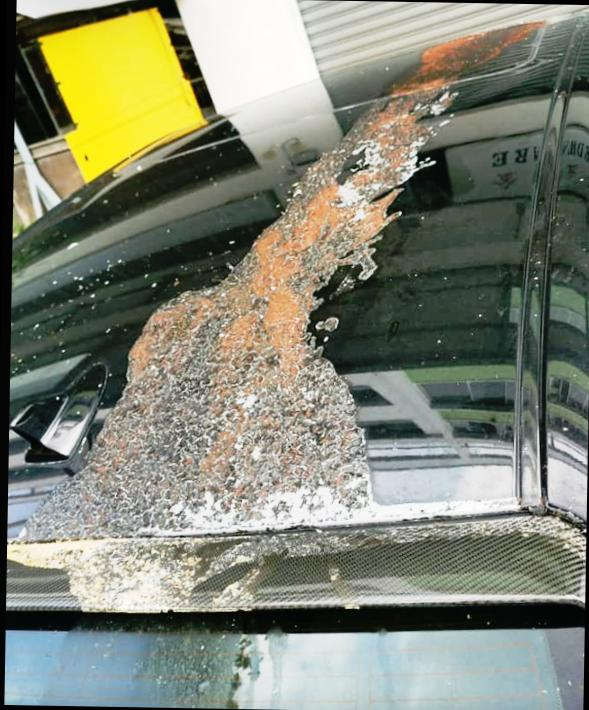Bird Poop: (9, 75, 457, 611)
